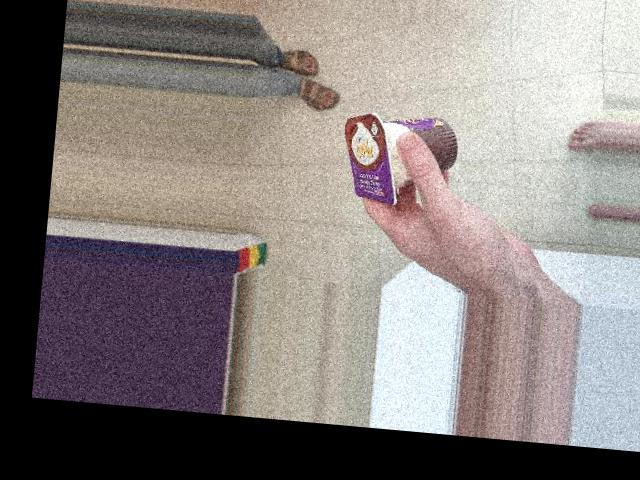milky: (329, 51, 426, 188)
